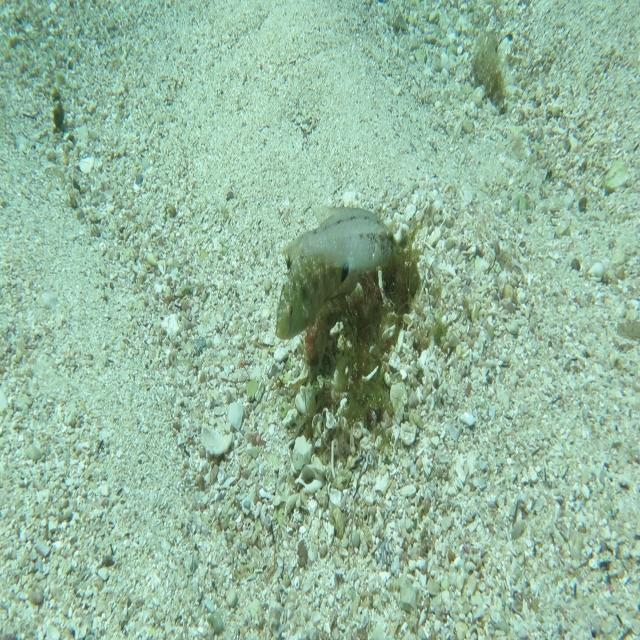DAN_CIRC: (273, 252, 346, 342)
core_nest: (365, 251, 410, 298)
female: (280, 200, 400, 285)
nest: (283, 181, 433, 454)
